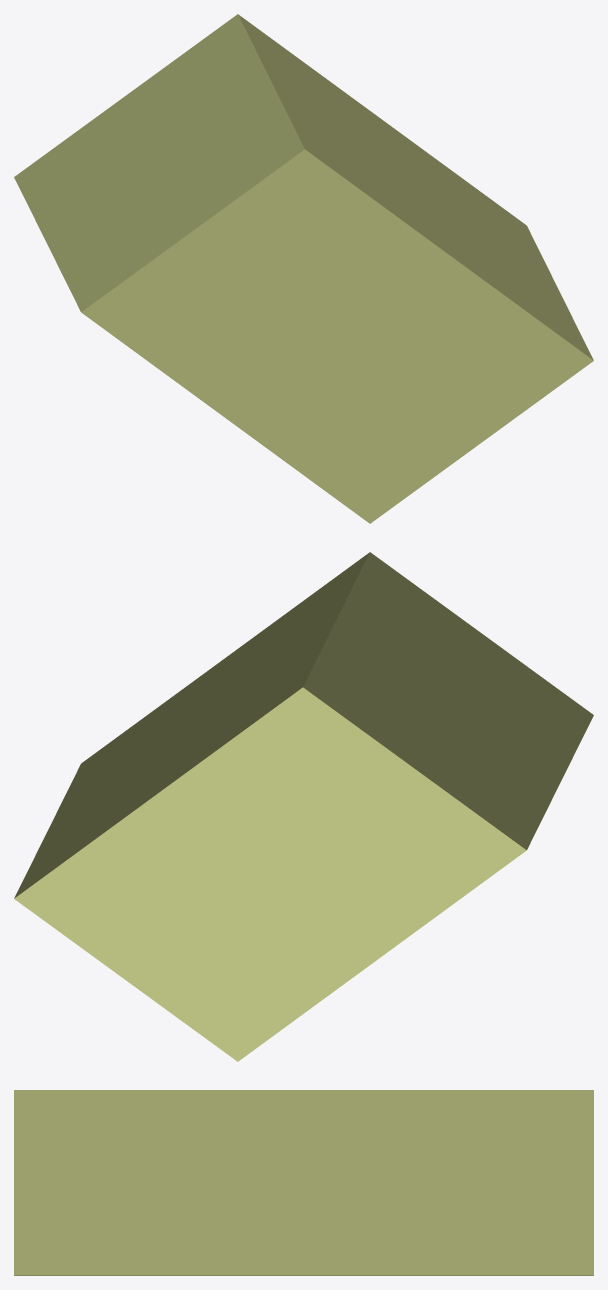
3 renders of one model, top to bottom at view 1: azimuth 30°, elevation 25°; view 2: azimuth 150°, elevation 25°; view 3: azimuth 270°, elevation 25°, orthographic.
Visible parts, largest first — view 1: 0_0_1_3_1_1_2_1_0_3_1; view 2: 0_0_1_3_1_1_2_1_0_3_1; view 3: 0_0_1_3_1_1_2_1_0_3_1.
Part boxes in pixels (bbox=[...]): 0_0_1_3_1_1_2_1_0_3_1: bbox=[14, 14, 593, 523]; 0_0_1_3_1_1_2_1_0_3_1: bbox=[14, 552, 593, 1061]; 0_0_1_3_1_1_2_1_0_3_1: bbox=[14, 1090, 593, 1275].
Size of the model in its own units: 5.23 by 4.47 by 9.
